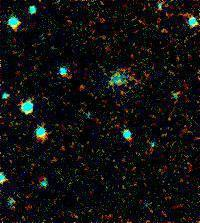star: (68, 72, 98, 102)
